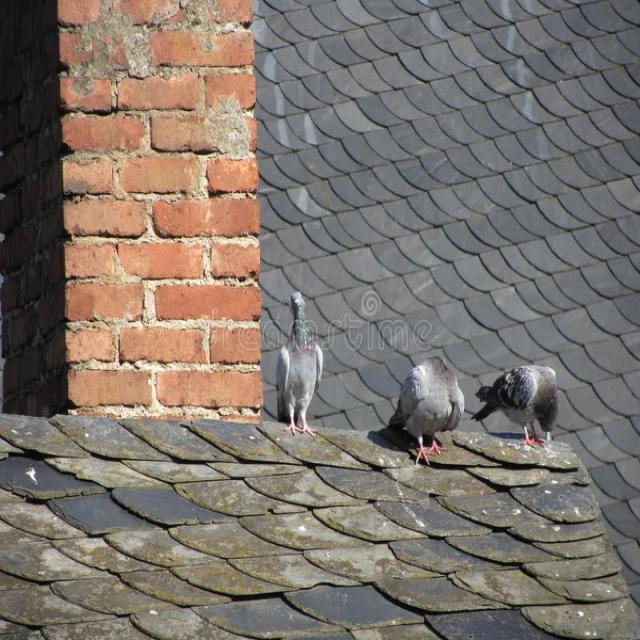bird: (382, 354, 467, 468), (467, 362, 560, 448), (274, 290, 325, 438)
